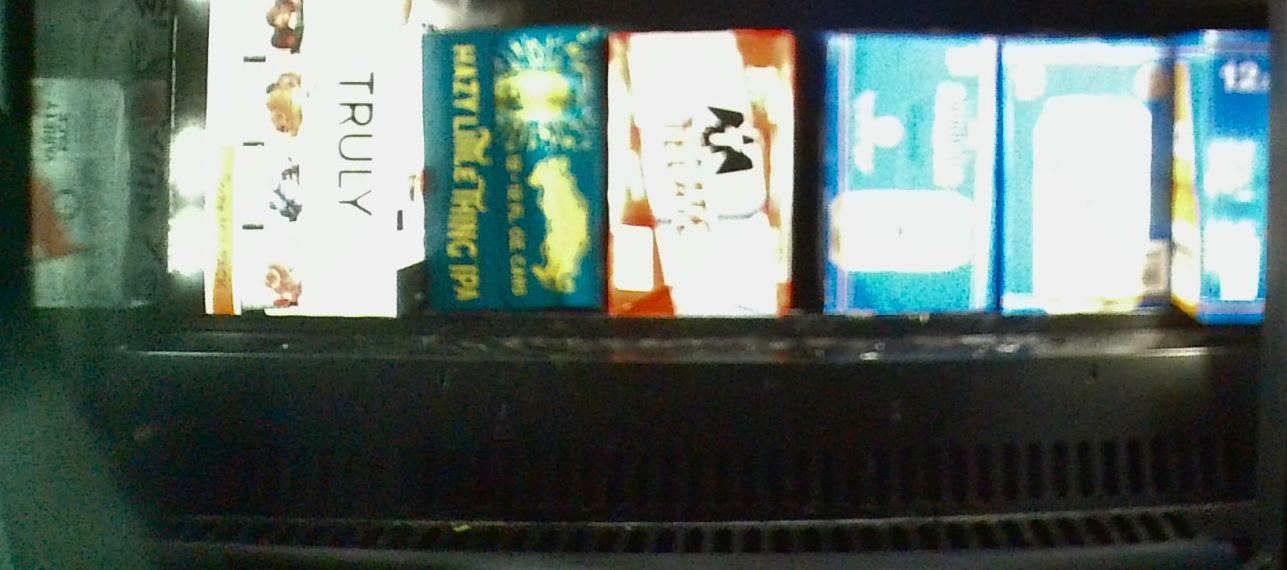bottle: (210, 1, 418, 314), (607, 28, 795, 316), (424, 25, 605, 310), (821, 30, 1000, 316), (999, 29, 1174, 316)
